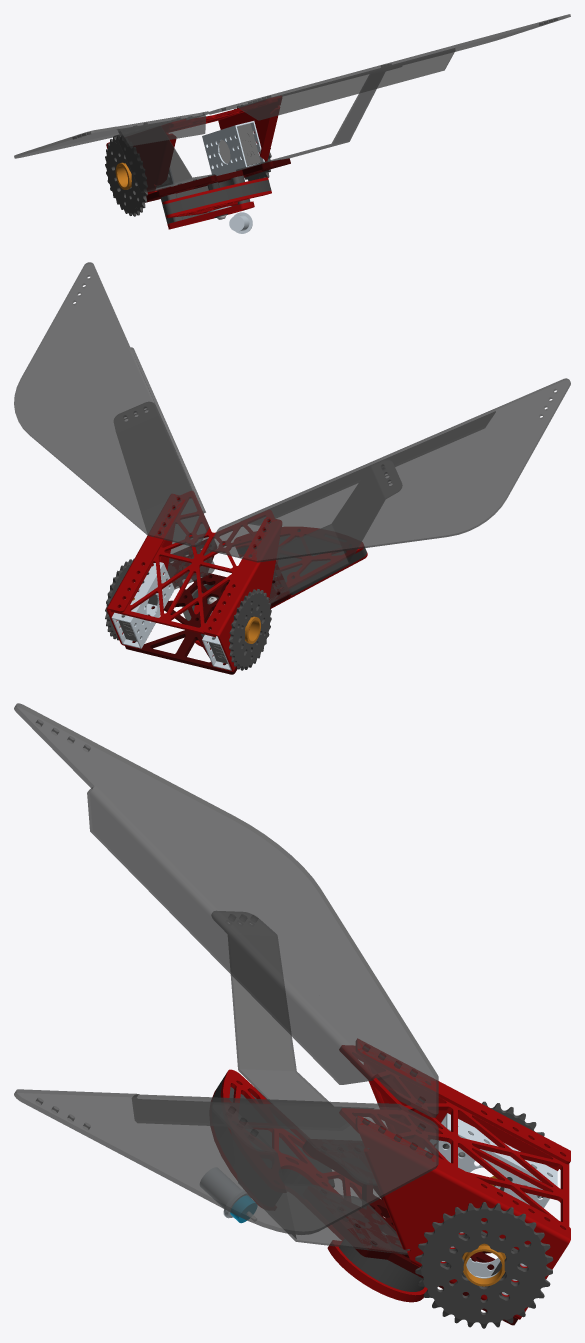
3 renders of one model, top to bottom at view 1: azimuth 30°, elevation 25°; view 2: azimuth 150°, elevation 25°; view 3: azimuth 270°, elevation 25°, orthographic. The views are drawn at different scales.
Parts seen in each view (by area): view 1: funnel 2, funnel 4, funnel 1, WCP-0982 Rev2, Tube 2"x1"x3.5", funnel 3, Part 9, Part 10, Part 13, Part 3, hook (×2), Part 8 (+4 smaller); view 2: funnel 1, funnel 2, funnel 3, funnel 4, Part 8, Part 3, Part 9, WCP-0982 Rev2 (×2), Part 10, Tube 2"x1"x3.5", hook, Part 13; view 3: funnel 1, funnel 2, funnel 4, WCP-0982 Rev2, Part 10, funnel 3, Part 8, Part 9, Part 3, hook, Tube 2"x1"x3.5", Part 37 (+3 smaller).
Boxes of the visible parts, <box> form: funnel 2: <box>209,14,570,120</box>; funnel 4: <box>113,124,215,192</box>; funnel 1: <box>14,111,209,158</box>; WCP-0982 Rev2: <box>105,136,147,216</box>; Tube 2"x1"x3.5": <box>202,121,264,175</box>; funnel 3: <box>236,66,401,171</box>; Part 9: <box>106,119,185,194</box>; Part 10: <box>218,96,281,168</box>; Part 13: <box>163,180,271,215</box>; Part 3: <box>145,158,290,202</box>; hook (×2): <box>162,177,271,217</box>; Part 8: <box>170,99,277,131</box>; funnel 1: <box>208,378,570,562</box>; funnel 2: <box>14,262,209,546</box>; funnel 3: <box>114,402,214,589</box>; funnel 4: <box>268,460,401,603</box>; Part 8: <box>110,491,274,637</box>; Part 3: <box>125,539,290,674</box>; Part 9: <box>202,517,281,671</box>; WCP-0982 Rev2 (×2): <box>105,559,271,670</box>; Part 10: <box>106,494,186,648</box>; Tube 2"x1"x3.5": <box>111,562,174,648</box>; hook: <box>194,527,363,621</box>; Part 13: <box>237,530,366,595</box>; funnel 1: <box>14,703,438,1117</box>; funnel 2: <box>14,1089,438,1234</box>; funnel 4: <box>212,911,376,1184</box>; WCP-0982 Rev2: <box>415,1202,553,1328</box>; Part 10: <box>356,1116,570,1319</box>; funnel 3: <box>212,1104,410,1254</box>; Part 8: <box>339,1045,569,1226</box>; Part 9: <box>356,1039,570,1170</box>; Part 3: <box>303,1141,518,1325</box>; hook: <box>220,1069,361,1198</box>; Tube 2"x1"x3.5": <box>424,1113,557,1207</box>; Part 37: <box>339,1232,424,1291</box>.
Bounding box in the file's own units: 0.6477 × 0.3053 × 0.3873.
